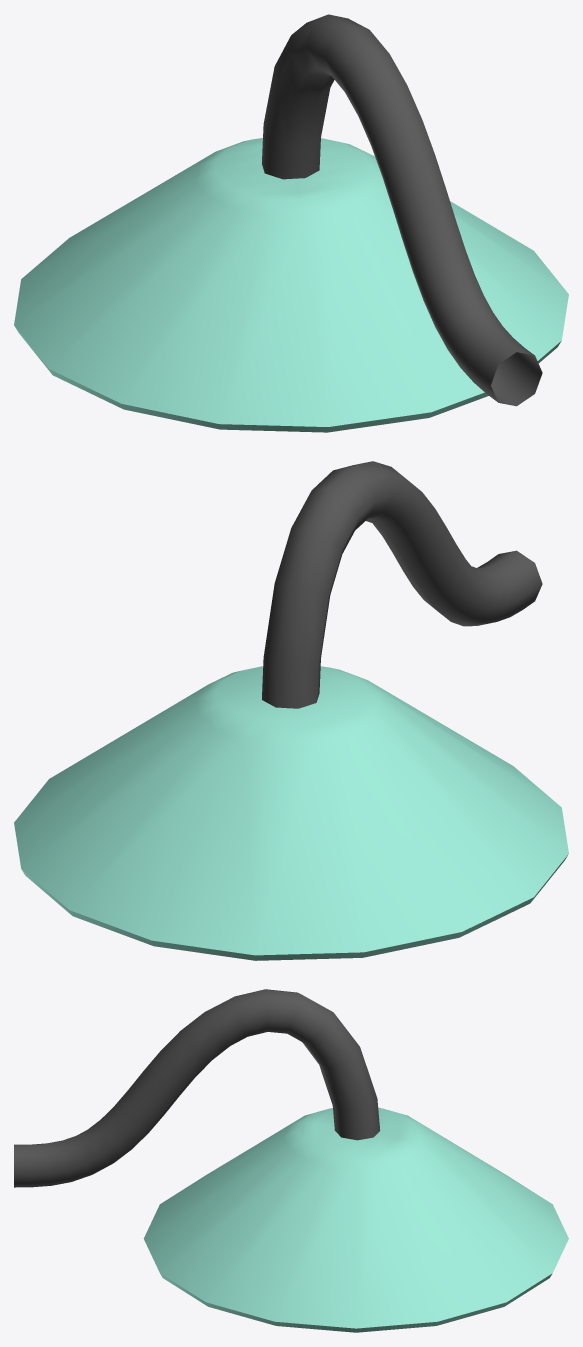
Rendered from ASSET_Cube_Lampe.fbx.
3 renders of one model, top to bottom at view 1: azimuth 30°, elevation 25°; view 2: azimuth 150°, elevation 25°; view 3: azimuth 270°, elevation 25°, orthographic. The views are drawn at different scales.
Parts seen in each view (by area): view 1: Lampe; view 2: Lampe; view 3: Lampe.
Part boxes in pixels (x1=…): Lampe: x1=14, y1=14, x2=568, y2=432; Lampe: x1=14, y1=461, x2=568, y2=960; Lampe: x1=14, y1=989, x2=568, y2=1332.
Bounding box in the file's own units: 37.42 × 26.33 × 48.83.
